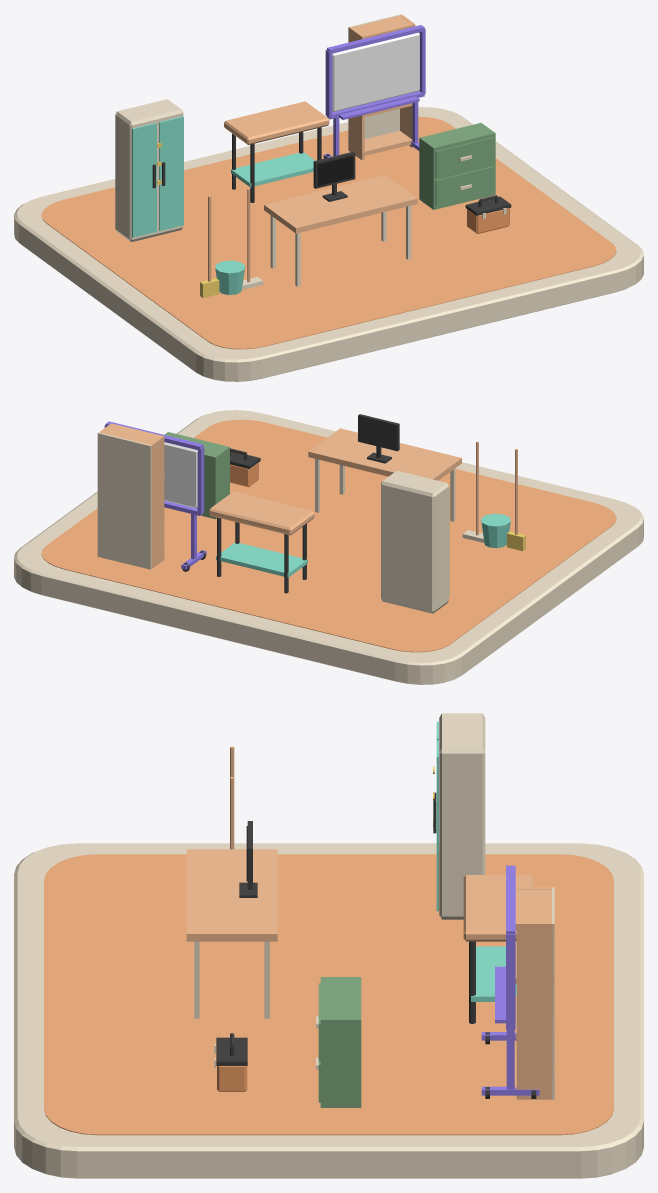
3 views of the same model, one above another, from view 1: azimuth 30°, elevation 25°; view 2: azimuth 150°, elevation 25°; view 3: azimuth 270°, elevation 25° (orthographic). The views are drawn at different scales.
Parts seen in each view (by area): view 1: COM-02 Floor Surface, COM-01 Rounded Base Direct, Top, Cabinet, Writing surface, Equipment case, Door, Worktop, Door.001, Lower shelf, Frame, Back (+8 smaller); view 2: COM-02 Floor Surface, COM-01 Rounded Base Direct, Equipment case, Back, Top, Worktop, Writing surface, Cabinet, Lower shelf, Side, Frame, Bucket (+4 smaller); view 3: COM-02 Floor Surface, COM-01 Rounded Base Direct, Top, Equipment case, Side.001, Cabinet, Worktop, Shelf.003, Lower shelf, Frame upright.001, Lid, Box (+2 smaller).
Boxes of the visible parts, box(x1,y1,x2,y2) form: COM-02 Floor Surface: box(41, 116, 616, 349); COM-01 Rounded Base Direct: box(14, 107, 643, 381); Top: box(264, 175, 417, 286); Cabinet: box(419, 122, 495, 209); Writing surface: box(332, 32, 419, 111); Equipment case: box(115, 99, 183, 241); Door: box(132, 123, 156, 237); Worktop: box(224, 101, 329, 144); Door.001: box(159, 116, 183, 230); Lower shelf: box(231, 152, 315, 187); Frame: box(313, 151, 355, 201); Back: box(348, 14, 402, 150); COM-02 Floor Surface: box(41, 419, 616, 652); COM-01 Rounded Base Direct: box(14, 410, 643, 684); Equipment case: box(381, 470, 448, 613); Back: box(97, 432, 151, 569); Top: box(308, 428, 461, 521); Worktop: box(209, 491, 314, 535); Writing surface: box(164, 442, 197, 508); Cabinet: box(164, 432, 229, 519); Lower shelf: box(216, 542, 307, 577); Side: box(149, 435, 164, 568); Frame: box(358, 414, 399, 463); Bucket: box(481, 513, 510, 548); COM-02 Floor Surface: box(44, 854, 613, 1135); COM-01 Rounded Base Direct: box(14, 843, 643, 1178); Top: box(186, 849, 277, 1018); Equipment case: box(439, 713, 485, 919); Side.001: box(516, 922, 553, 1099); Cabinet: box(316, 977, 361, 1107); Worktop: box(463, 875, 533, 941); Shelf.003: box(515, 887, 554, 930); Lower shelf: box(471, 946, 516, 1001); Frame upright.001: box(506, 934, 515, 1027); Lid: box(216, 1037, 247, 1065); Box: box(217, 1066, 247, 1091).
Bounding box in the file's own units: 6 × 1.9 × 5.2.
Materials: 1 (1 with a texture image).
